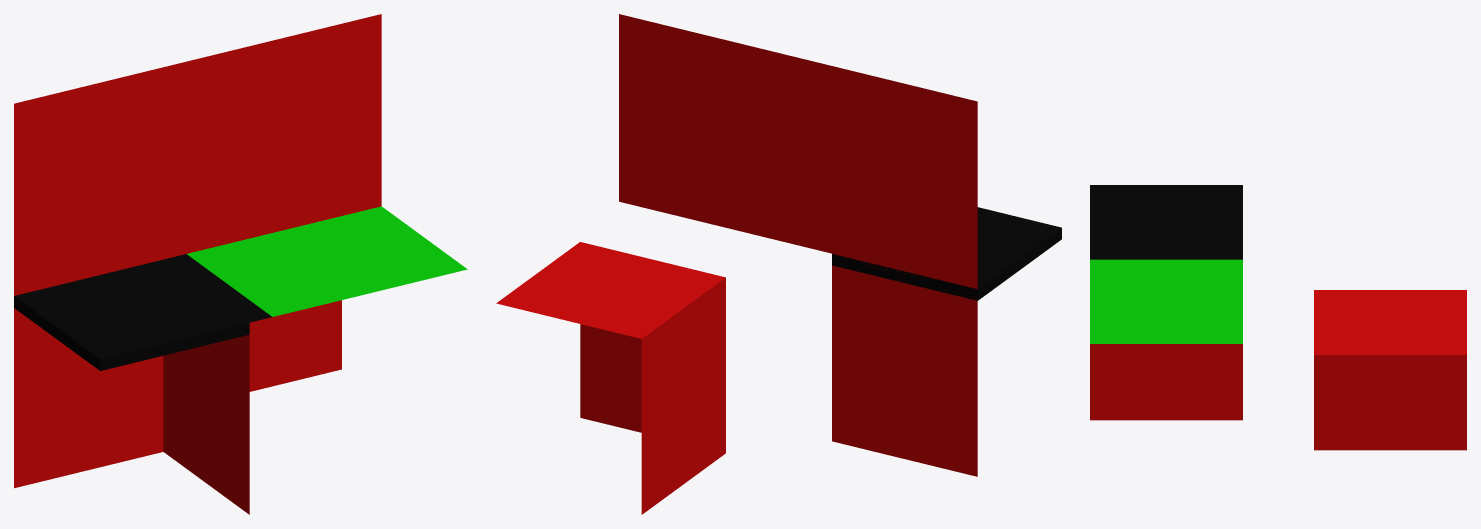
3 views of the same model, side by side, from view 1: azimuth 30°, elevation 25°; view 2: azimuth 150°, elevation 25°; view 3: azimuth 270°, elevation 25° (orthographic). The views are drawn at different scales.
Visible parts, largest first — view 1: None_E_W_A_E_A_P_A_E_None; view 2: None_E_W_A_E_A_P_A_E_None; view 3: None_E_W_A_E_A_P_A_E_None.
Part boxes in pixels (bbox=[...]): None_E_W_A_E_A_P_A_E_None: bbox=[14, 14, 467, 514]; None_E_W_A_E_A_P_A_E_None: bbox=[496, 14, 1061, 514]; None_E_W_A_E_A_P_A_E_None: bbox=[1090, 185, 1466, 450].
Size of the model in its own units: 100 by 100 by 100.
